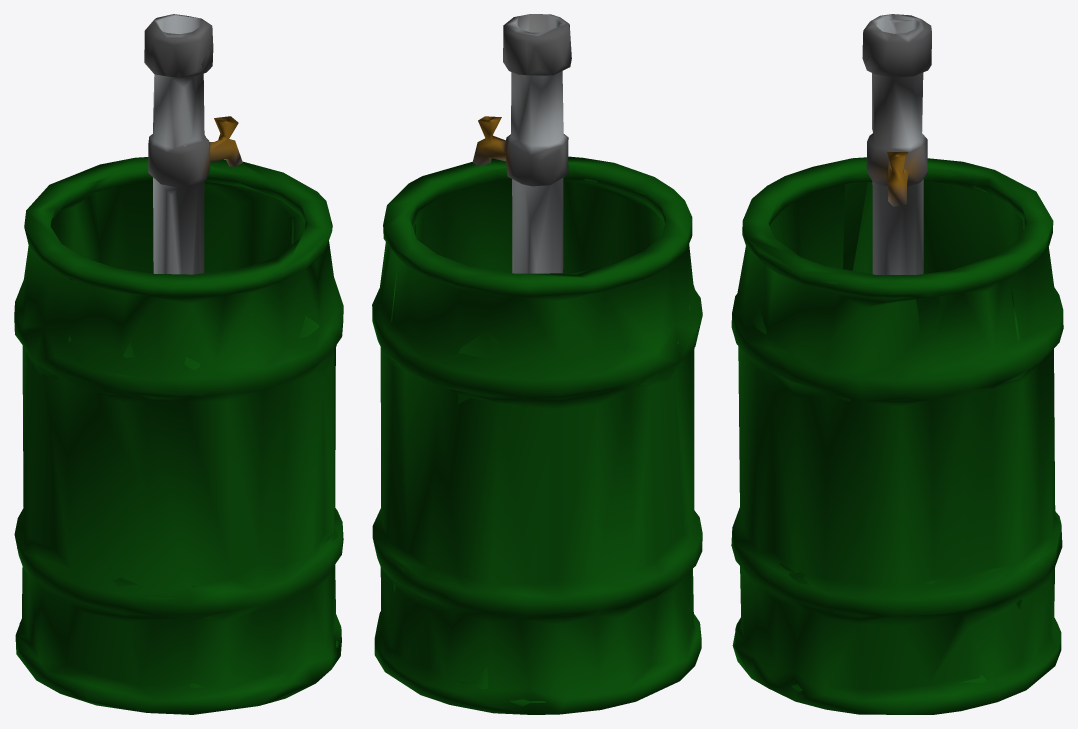
The model's file is gen3d-rain-barrel-lod1.glb.
3 views of the same model, side by side, from view 1: azimuth 30°, elevation 25°; view 2: azimuth 150°, elevation 25°; view 3: azimuth 270°, elevation 25° (orthographic).
Parts seen in each view (by area): view 1: part_0; view 2: part_0; view 3: part_0.
Part boxes in pixels (left/top/right/bottom): part_0: left=14, top=14, right=343, bottom=714; part_0: left=372, top=14, right=702, bottom=714; part_0: left=731, top=14, right=1063, bottom=714.
Size of the model in its own units: 0.4818 by 0.9998 by 0.4821.
